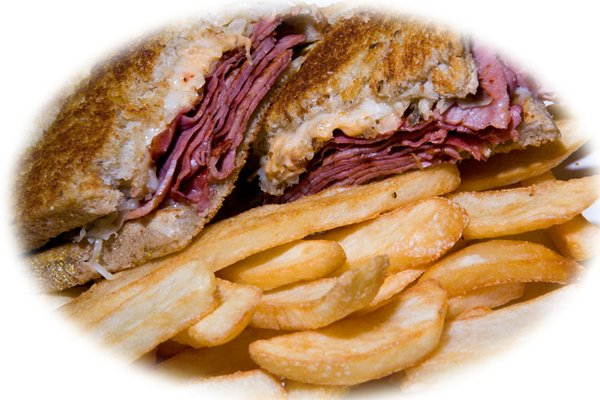pasta: (247, 236, 581, 387)
soup: (10, 3, 571, 374)
